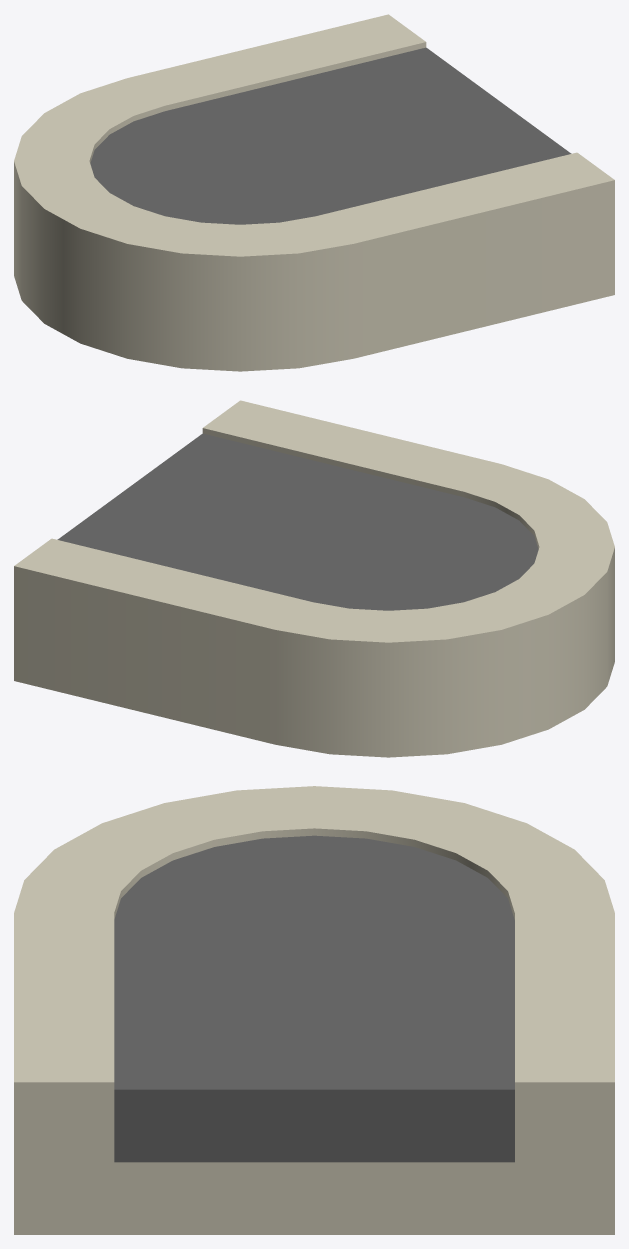
Rendered from tile188.dae.
The picture shows the model from 3 angles, top to bottom: view 1: azimuth 30°, elevation 25°; view 2: azimuth 150°, elevation 25°; view 3: azimuth 270°, elevation 25°; orthographic projection. The views are drawn at different scales.
Visible parts, largest first — view 1: tile188; view 2: tile188; view 3: tile188.
Boxes of the visible parts, <box> form: tile188: <box>14,14,614,371</box>; tile188: <box>14,400,614,757</box>; tile188: <box>14,786,614,1234</box>.
Bounding box in the file's own units: 0.875 × 0.21 × 0.7501.
